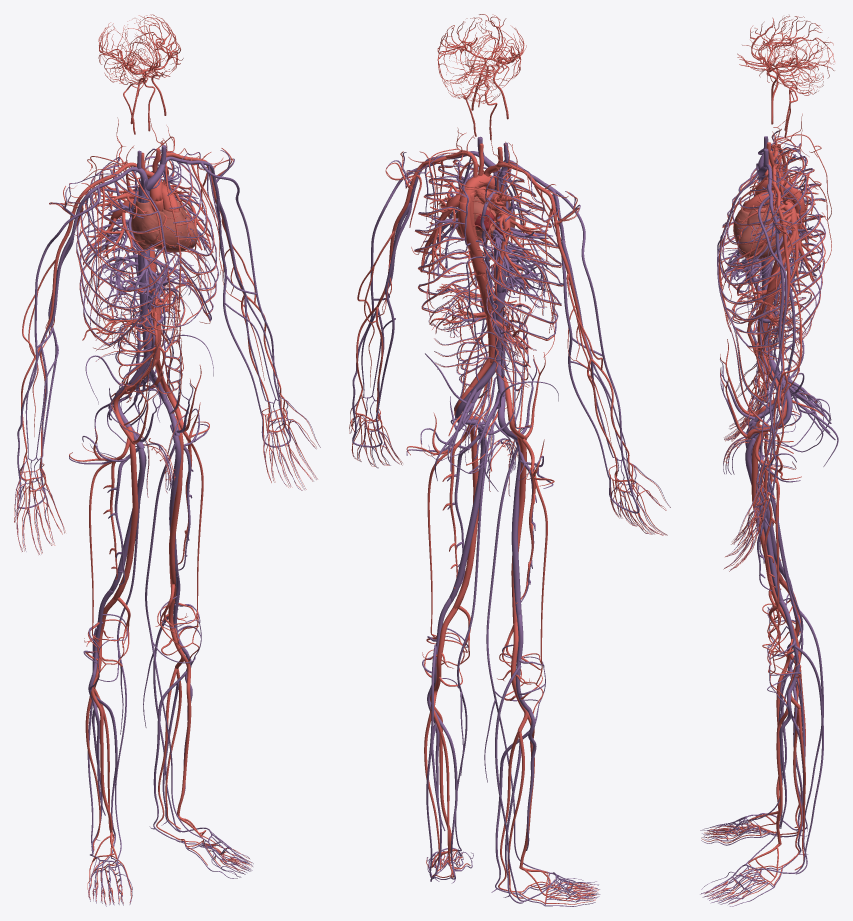
Rendered from body-heart.glb.
3 renders of one model, left to right at view 1: azimuth 30°, elevation 25°; view 2: azimuth 150°, elevation 25°; view 3: azimuth 270°, elevation 25°, orthographic. The views are drawn at different scales.
Visible parts, largest first — view 1: FJ1994, FJ1961, FJ1985, FJ2428, FJ2103, FJ2143, FJ2439, FJ2145, FJ2272, FJ2074, FJ2220, FJ2144 (+3 smaller); view 2: FJ1994, FJ1961, FJ2145, FJ1985, FJ1975, FJ2103, FJ2102, FJ3427, FJ2144, FJ2074, FJ2272, FJ2143 (+5 smaller); view 3: FJ1985, FJ1975, FJ2428, FJ2220, FJ2103, FJ2102, FJ2074, FJ2145, FJ1994, FJ2121, FJ2176, FJ2065 (+17 smaller).
Boxes of the visible parts, x1=… form: FJ1994: x1=76, y1=157, x2=168, y2=344; FJ1961: x1=76, y1=165, x2=165, y2=346; FJ1985: x1=145, y1=148, x2=218, y2=319; FJ2428: x1=150, y1=208, x2=197, y2=252; FJ2103: x1=143, y1=442, x2=205, y2=839; FJ2143: x1=113, y1=426, x2=138, y2=600; FJ2439: x1=131, y1=200, x2=164, y2=249; FJ2145: x1=115, y1=450, x2=146, y2=861; FJ2272: x1=17, y1=187, x2=100, y2=479; FJ2074: x1=169, y1=415, x2=183, y2=585; FJ2220: x1=200, y1=161, x2=282, y2=415; FJ2144: x1=110, y1=447, x2=145, y2=591; FJ1994: x1=482, y1=170, x2=563, y2=350; FJ1961: x1=466, y1=188, x2=563, y2=350; FJ2145: x1=484, y1=447, x2=550, y2=873; FJ1985: x1=414, y1=159, x2=490, y2=325; FJ1975: x1=414, y1=179, x2=483, y2=326; FJ2103: x1=455, y1=440, x2=487, y2=851; FJ2102: x1=449, y1=429, x2=484, y2=601; FJ3427: x1=458, y1=201, x2=495, y2=357; FJ2144: x1=511, y1=440, x2=521, y2=617; FJ2074: x1=453, y1=424, x2=478, y2=609; FJ2272: x1=546, y1=183, x2=630, y2=488; FJ2143: x1=511, y1=432, x2=526, y2=623; FJ1985: x1=719, y1=166, x2=825, y2=348; FJ1975: x1=720, y1=178, x2=825, y2=349; FJ2428: x1=733, y1=207, x2=783, y2=259; FJ2220: x1=758, y1=195, x2=787, y2=508; FJ2103: x1=746, y1=451, x2=803, y2=864; FJ2102: x1=745, y1=438, x2=783, y2=600; FJ2074: x1=751, y1=432, x2=780, y2=608; FJ2145: x1=746, y1=428, x2=803, y2=820; FJ1994: x1=720, y1=147, x2=825, y2=296; FJ2121: x1=783, y1=645, x2=823, y2=873; FJ2176: x1=783, y1=610, x2=823, y2=830; FJ2065: x1=776, y1=707, x2=788, y2=843.
Size of the model in its own units: 0.6489 by 1.71 by 0.2536.
